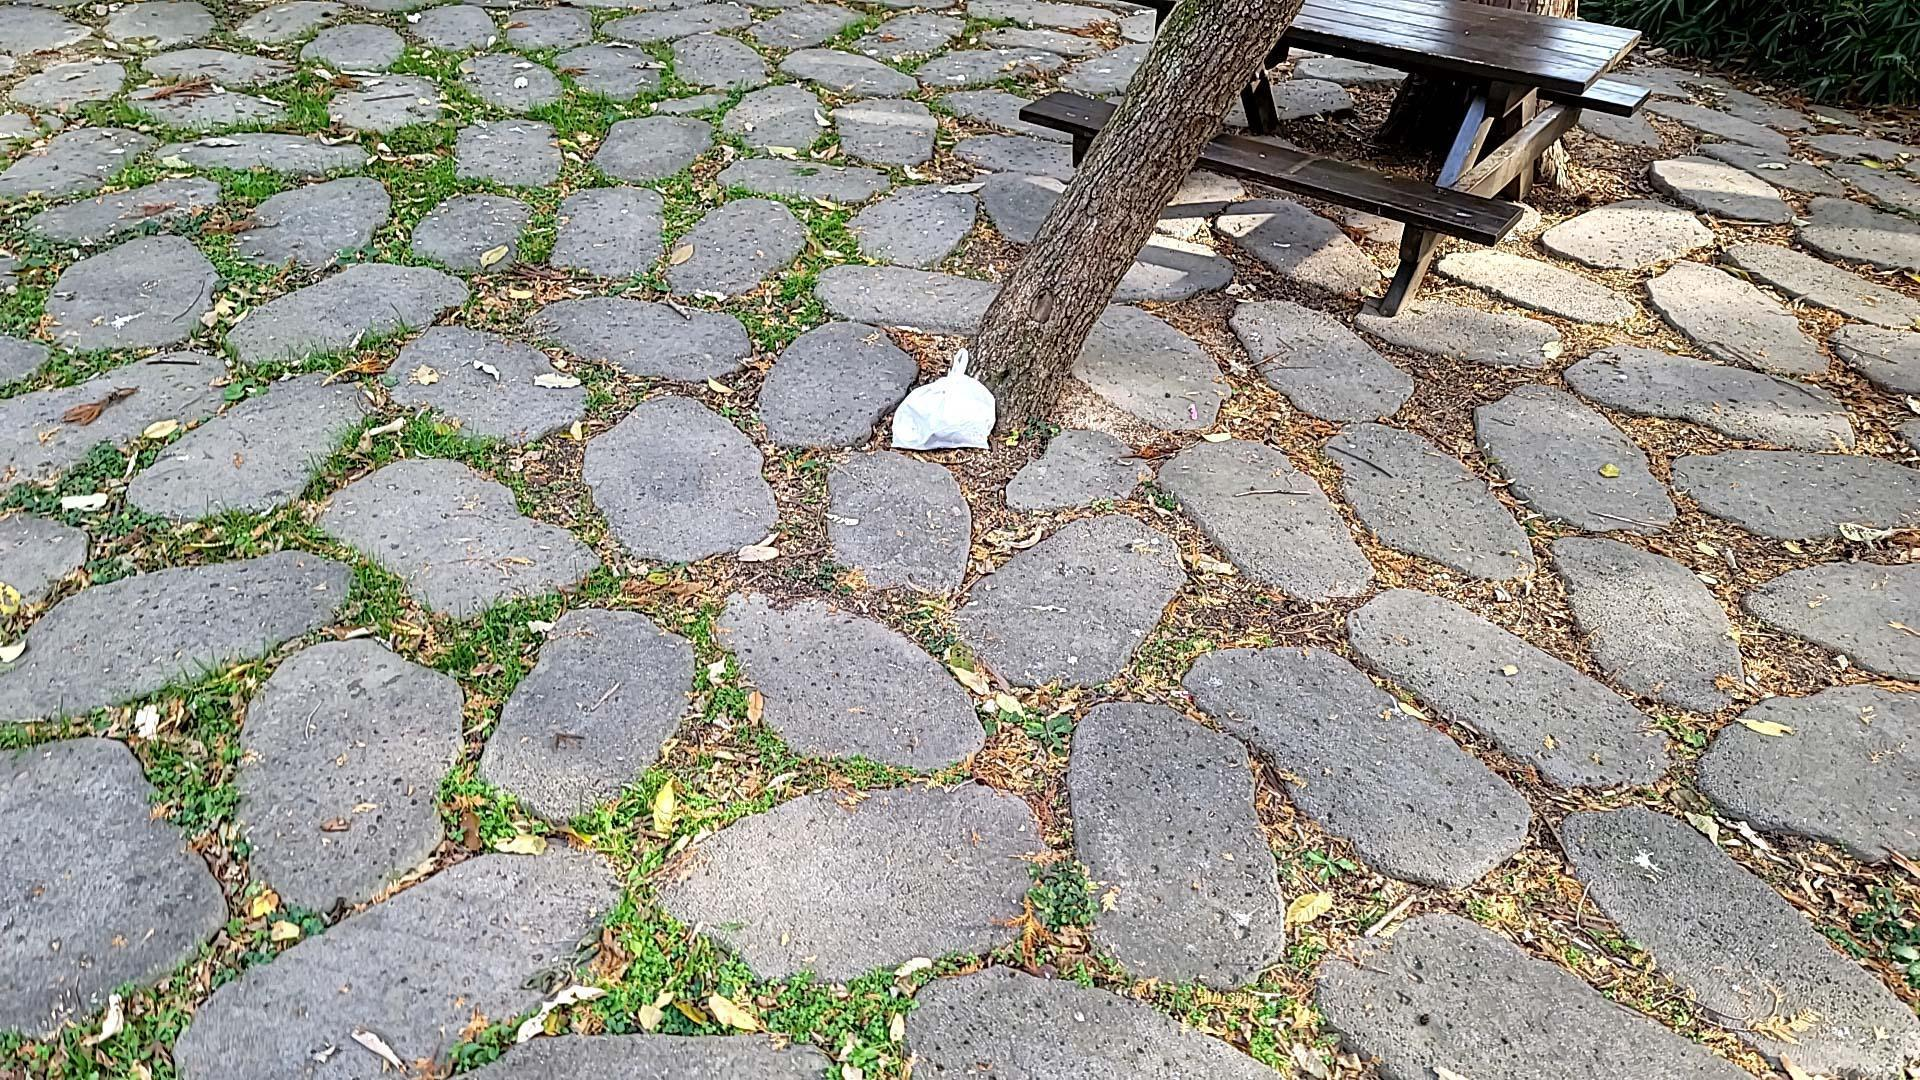white_bag: (878, 342, 1000, 458)
